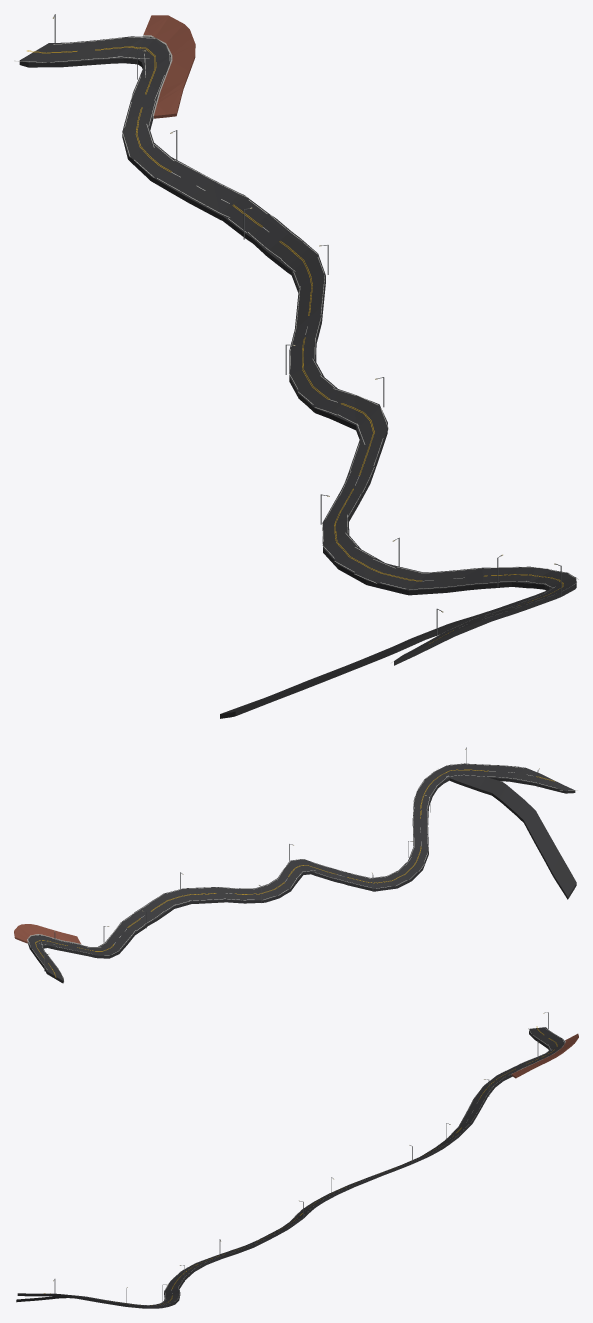
3 renders of one model, top to bottom at view 1: azimuth 30°, elevation 25°; view 2: azimuth 150°, elevation 25°; view 3: azimuth 330°, elevation 25°, orthographic. The views are drawn at different scales.
Bounding box in the file's own units: 123 × 52.73 × 294.
